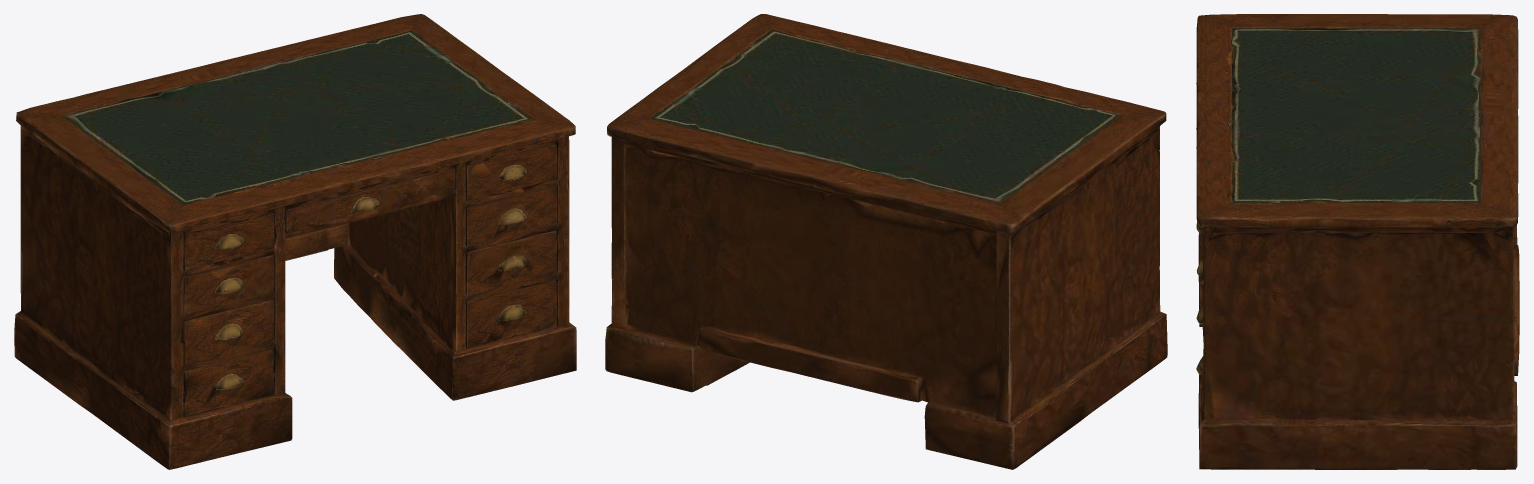
File: desk.glb
The picture shows the model from 3 angles, left to right: view 1: azimuth 30°, elevation 25°; view 2: azimuth 150°, elevation 25°; view 3: azimuth 270°, elevation 25°; orthographic projection. The views are drawn at different scales.
Size of the model in its own units: 1.9 by 1.1 by 1.27.
Materials: 1 (1 with a texture image).
